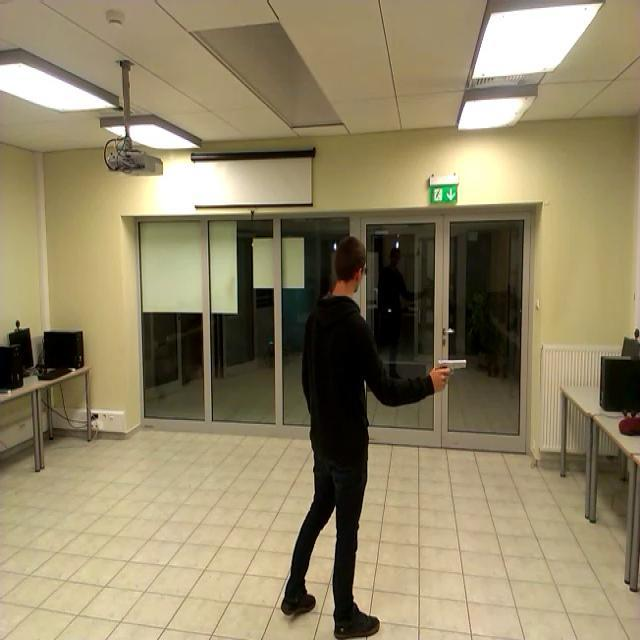Gun: (427, 348, 480, 386)
